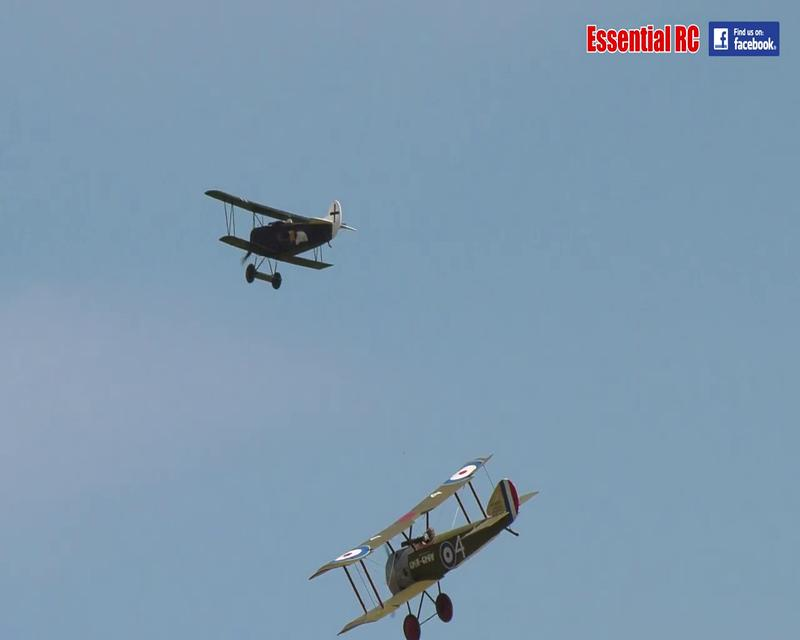UAV: (302, 452, 541, 640), (198, 176, 354, 294)
